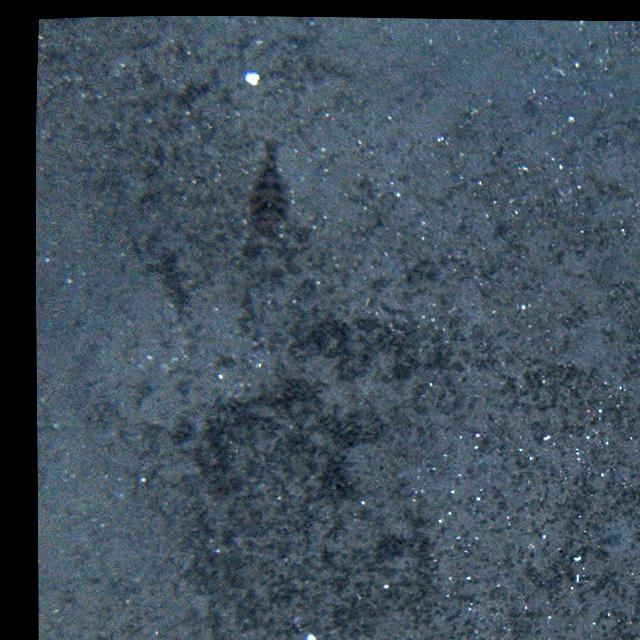flatfish: (232, 132, 300, 235)
